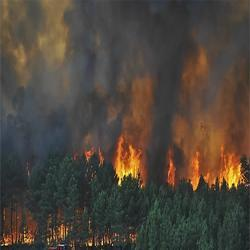fire: (115, 143, 141, 177), (225, 159, 242, 185), (192, 154, 202, 188)
